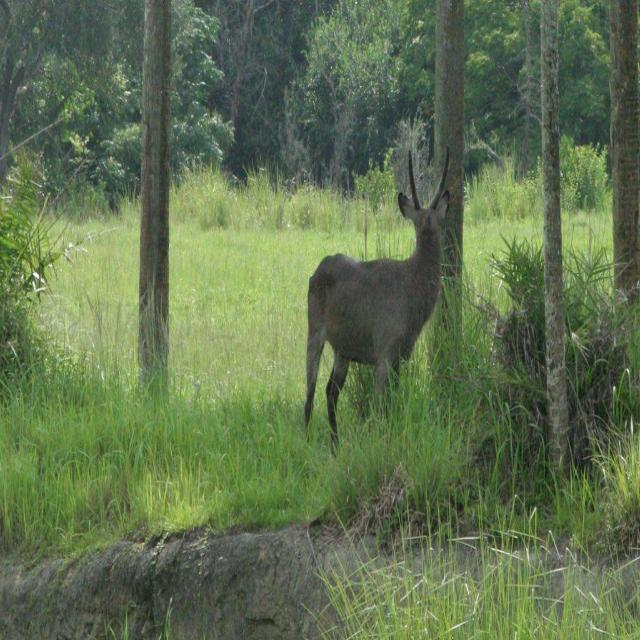Deer: (304, 147, 450, 458)
